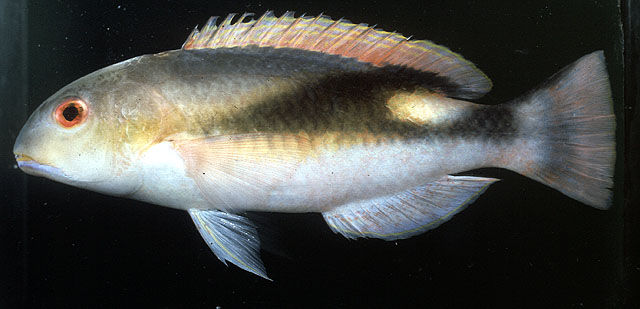fish: (13, 12, 615, 281)
